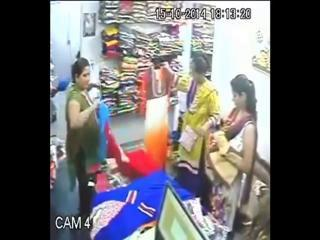Normal: (204, 74, 258, 235), (164, 56, 222, 194), (64, 57, 106, 219)
